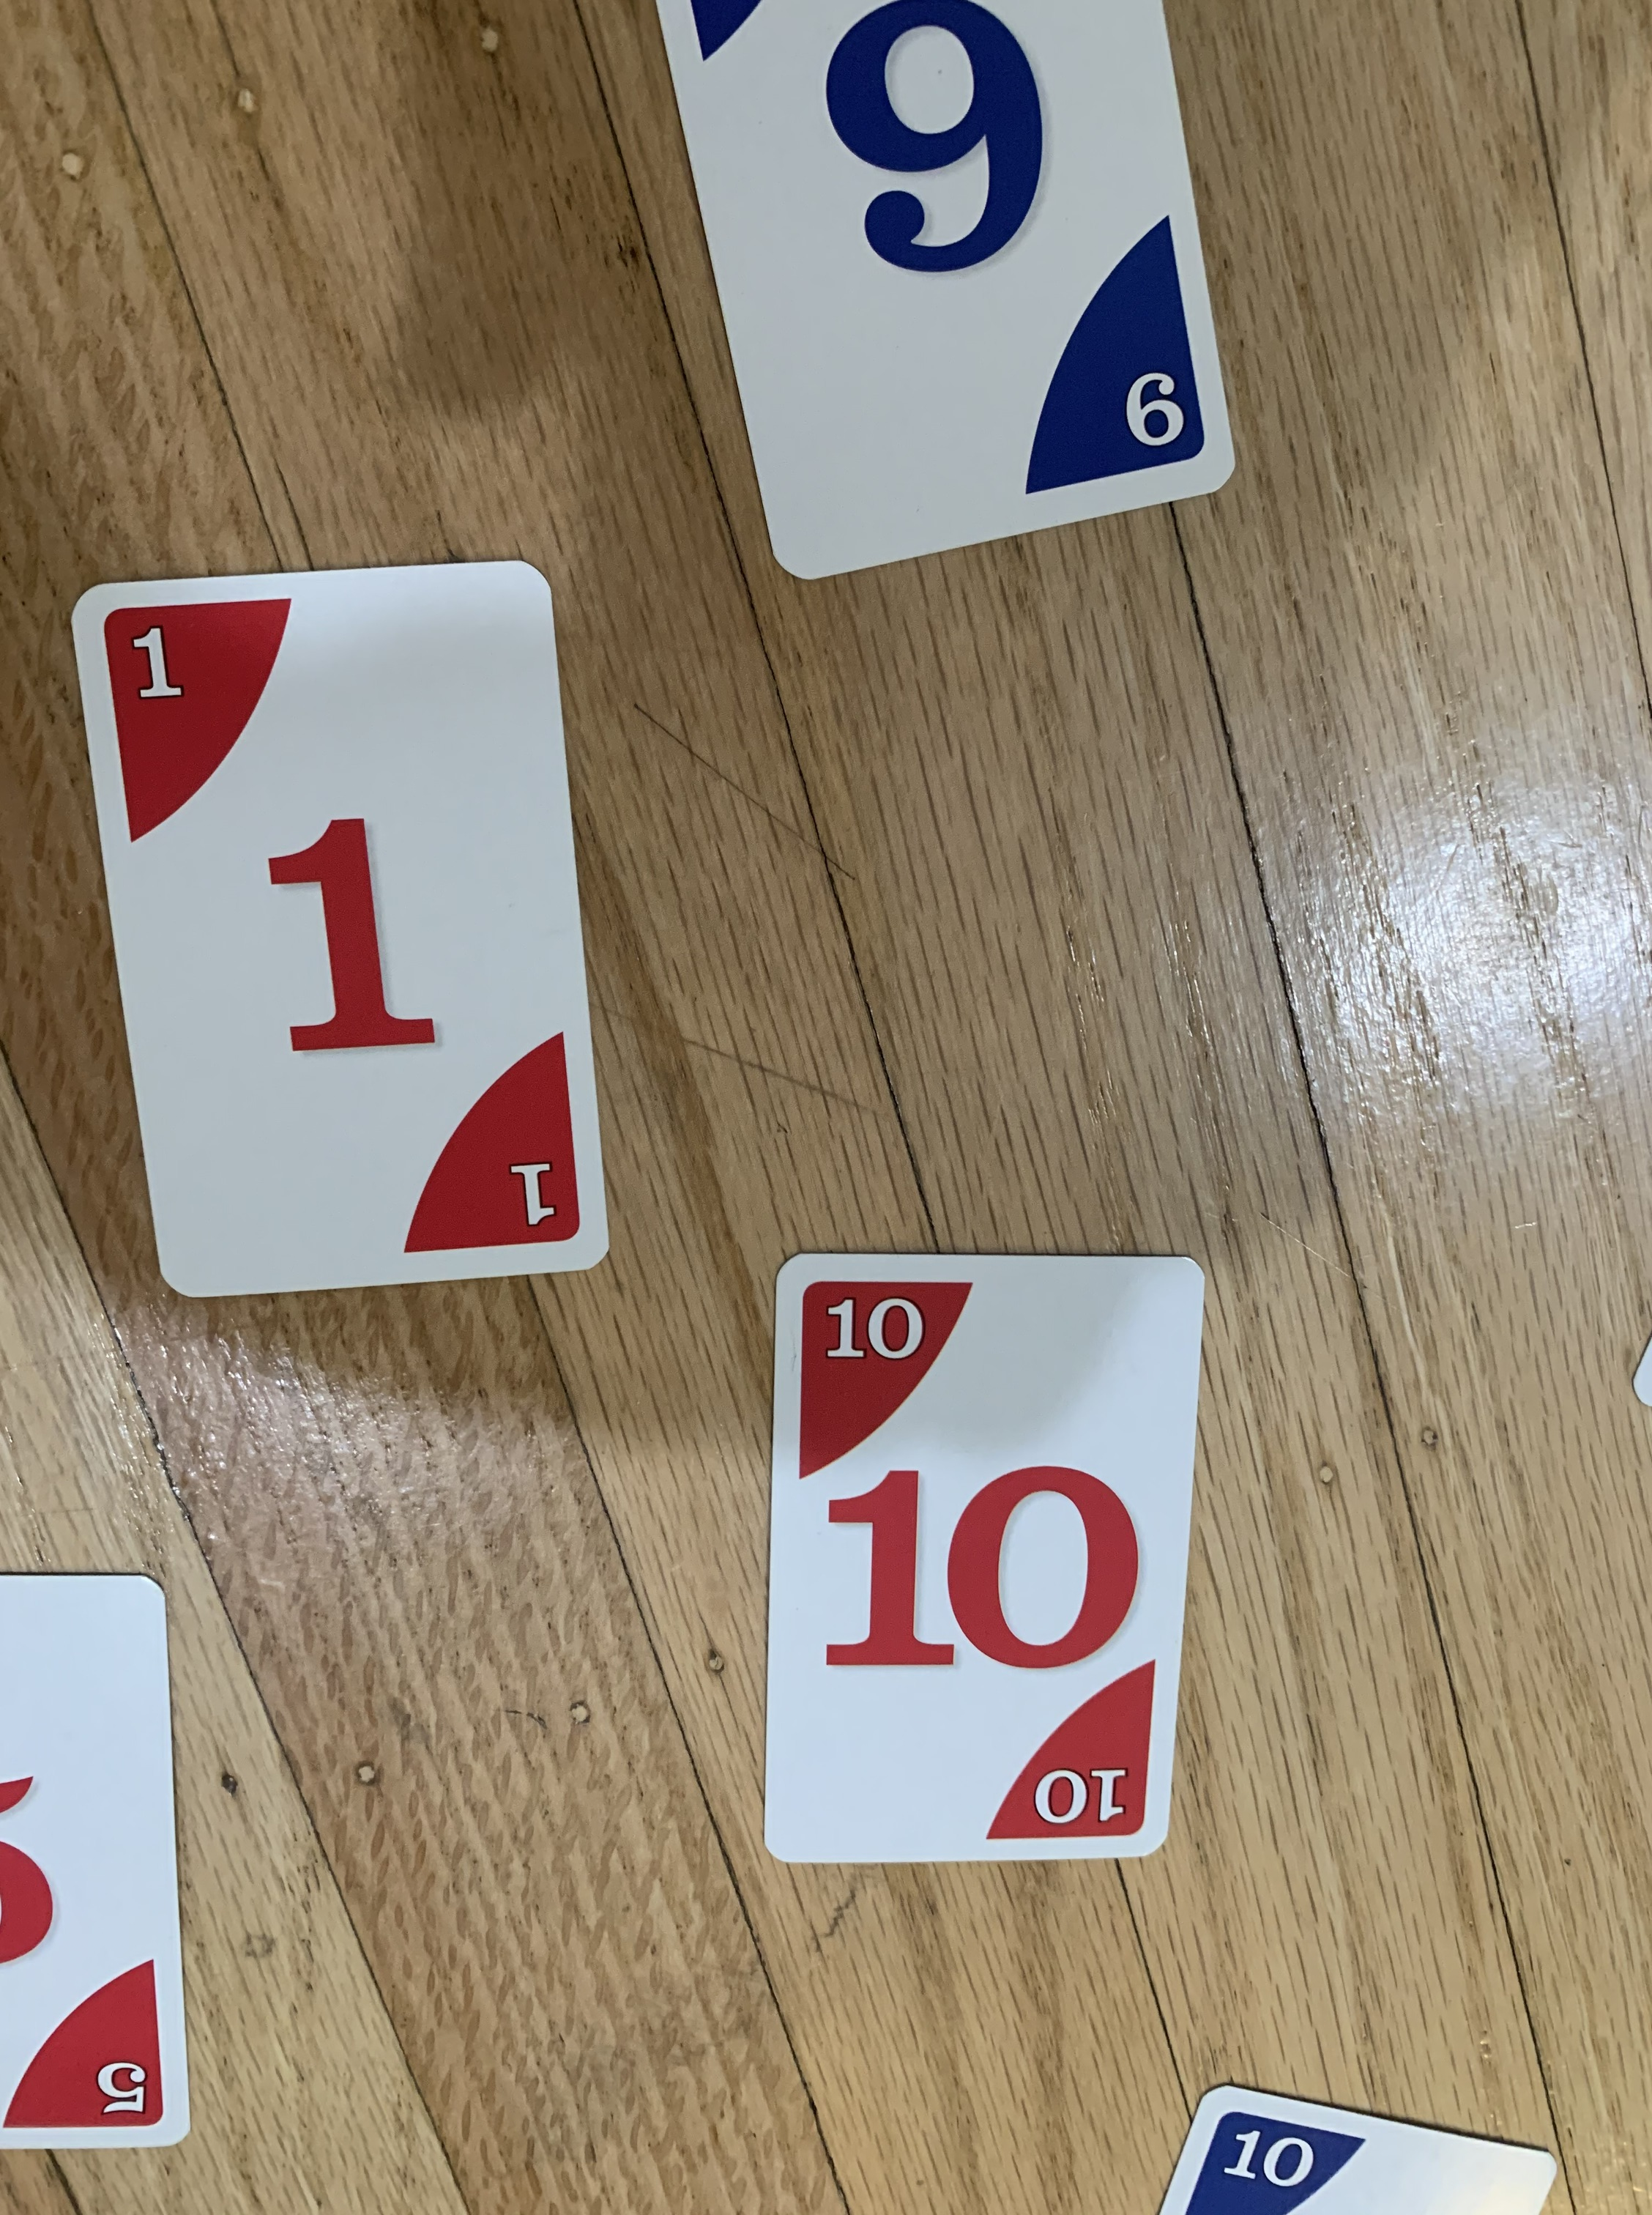nine: (628, 0, 1241, 587)
one: (66, 559, 616, 1307)
ten: (755, 1243, 1213, 1877)
